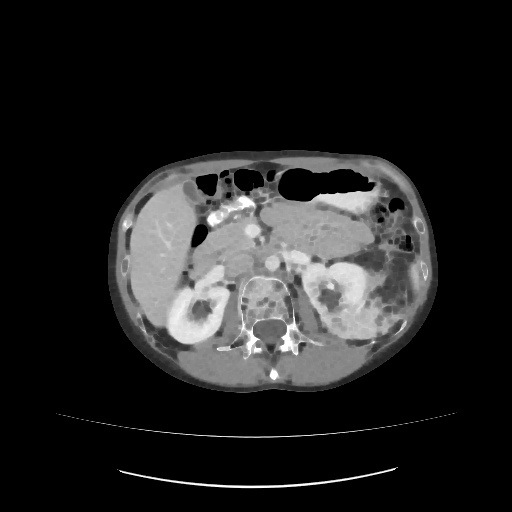Lesion: (322, 262, 406, 340)
